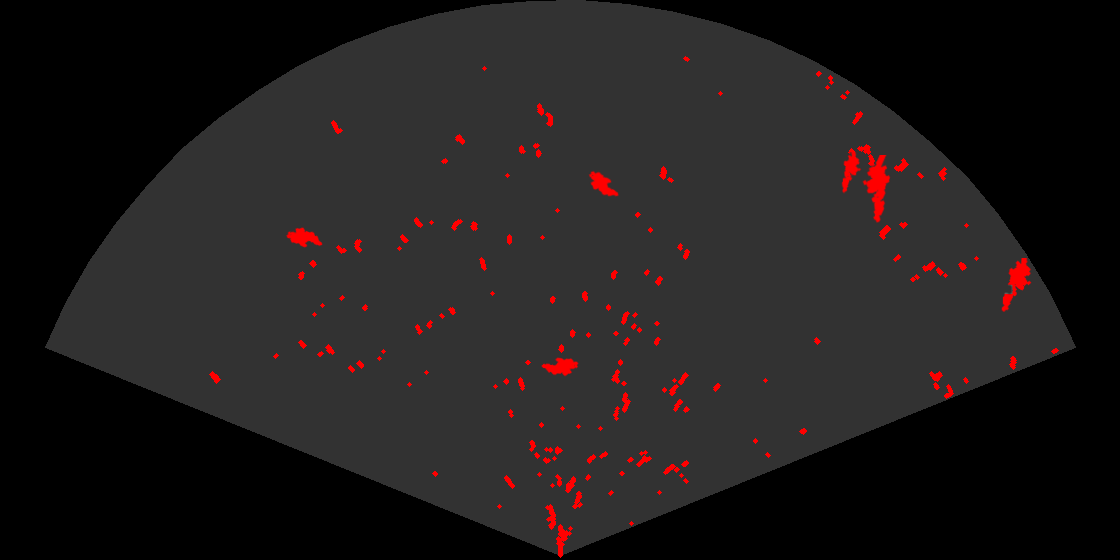AUV: (587, 169, 620, 198), (284, 226, 324, 249), (540, 356, 580, 378)
frogman: (861, 155, 892, 224), (1000, 258, 1033, 312), (840, 152, 863, 194)
